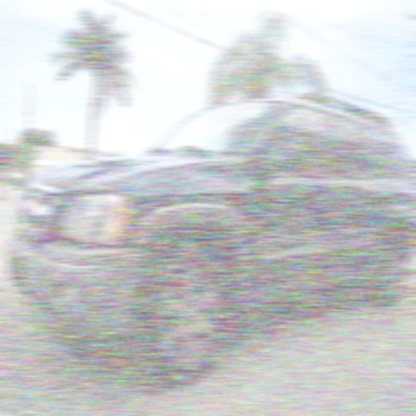Vehicle: (8, 92, 414, 388)
